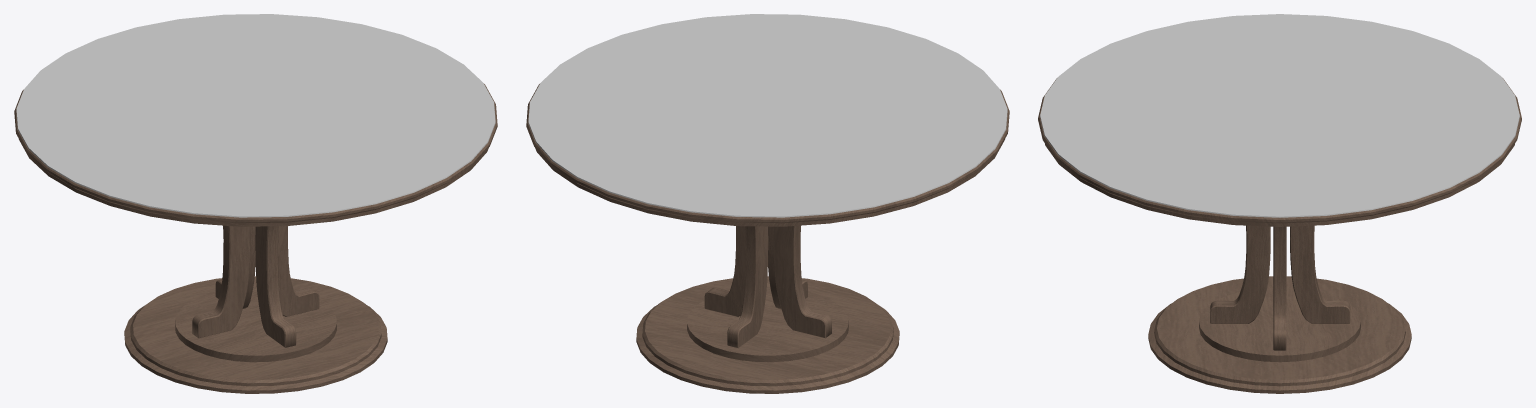
The model's file is D_Table_201.fbx.
3 views of the same model, side by side, from view 1: azimuth 30°, elevation 25°; view 2: azimuth 150°, elevation 25°; view 3: azimuth 270°, elevation 25° (orthographic).
Visible parts, largest first — view 1: D_Table_201; view 2: D_Table_201; view 3: D_Table_201.
Boxes of the visible parts, box(x1,y1,x2,y2) form: D_Table_201: box(14, 14, 497, 393); D_Table_201: box(526, 14, 1009, 393); D_Table_201: box(1038, 14, 1521, 393).
Size of the model in its own units: 1.57 by 0.8001 by 1.57.
